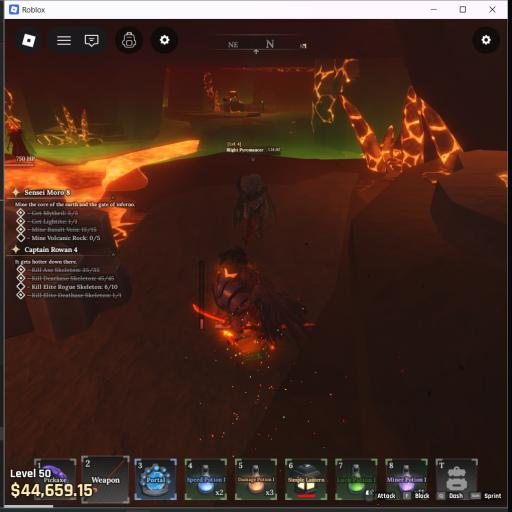player: (212, 248, 309, 346)
rock: (0, 197, 132, 340), (223, 91, 244, 112)
